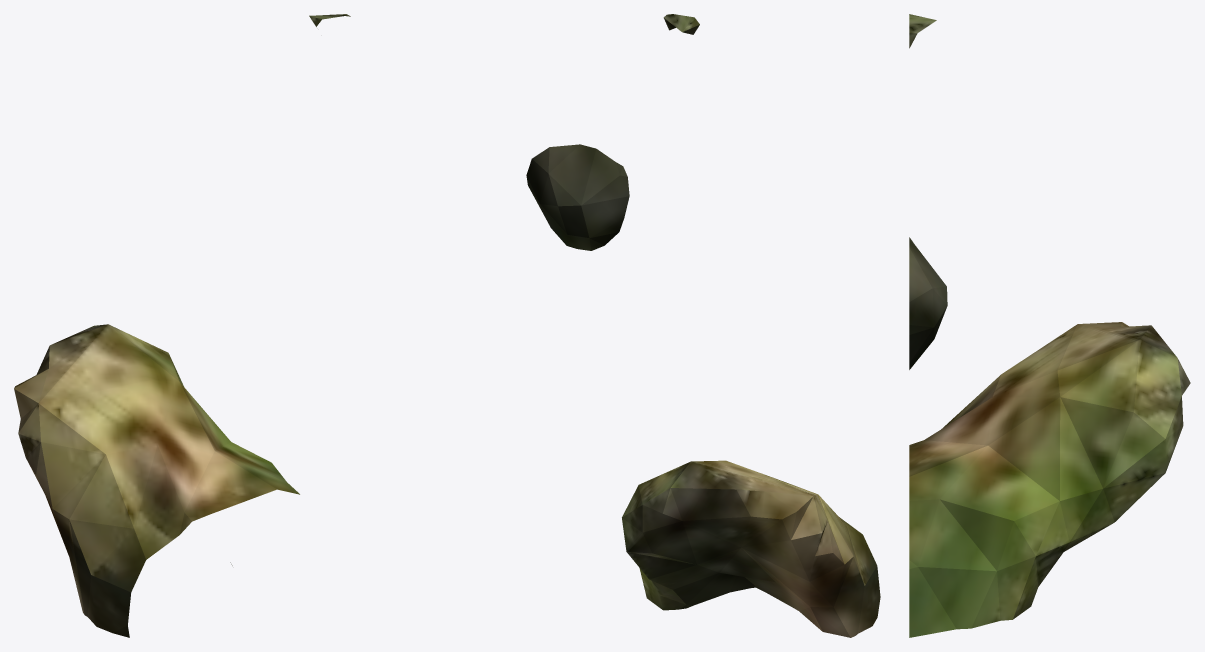
The picture shows the model from 3 angles, left to right: view 1: azimuth 30°, elevation 25°; view 2: azimuth 150°, elevation 25°; view 3: azimuth 270°, elevation 25°; orthographic projection. The views are drawn at different scales.
Size of the model in its own units: 0.3411 by 0.4723 by 0.1991.
Materials: 1 (1 with a texture image).
